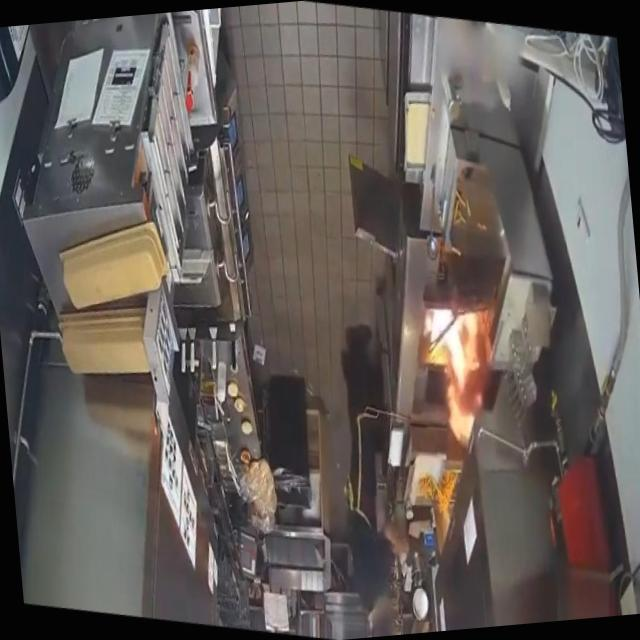fire: (407, 274, 510, 457)
